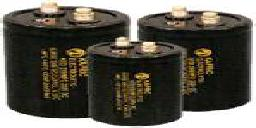Electrolytic-Capacitor: (86, 35, 186, 128)
